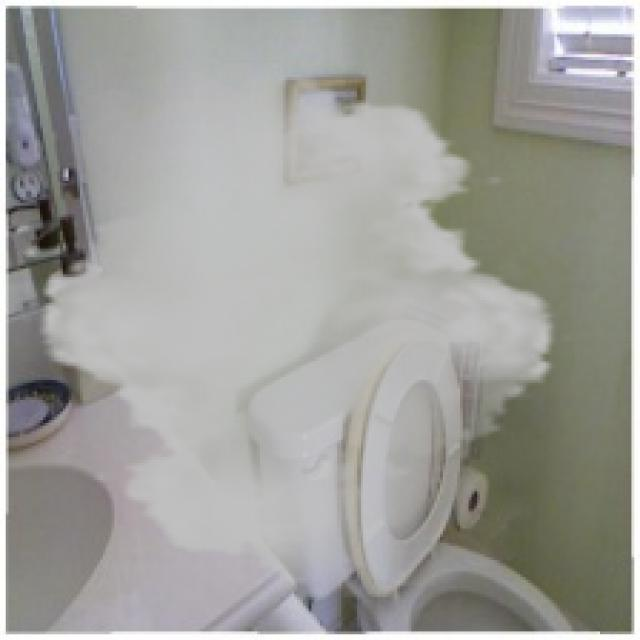Smoke: (17, 60, 577, 597)
